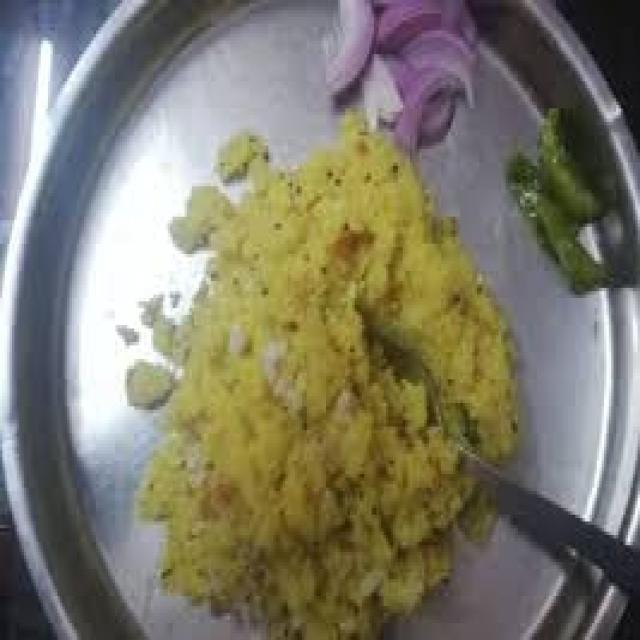POHA: (134, 122, 518, 637)
